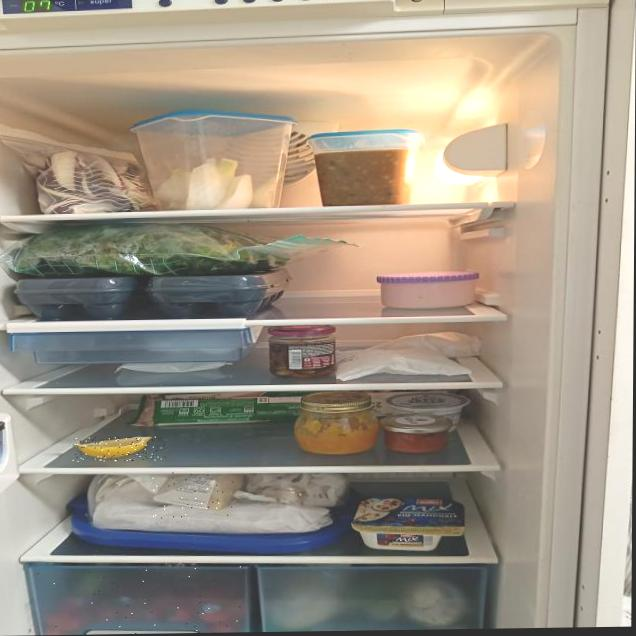carrots: (34, 560, 259, 635)
cheese: (152, 471, 235, 520)
lemon: (70, 436, 166, 462)
